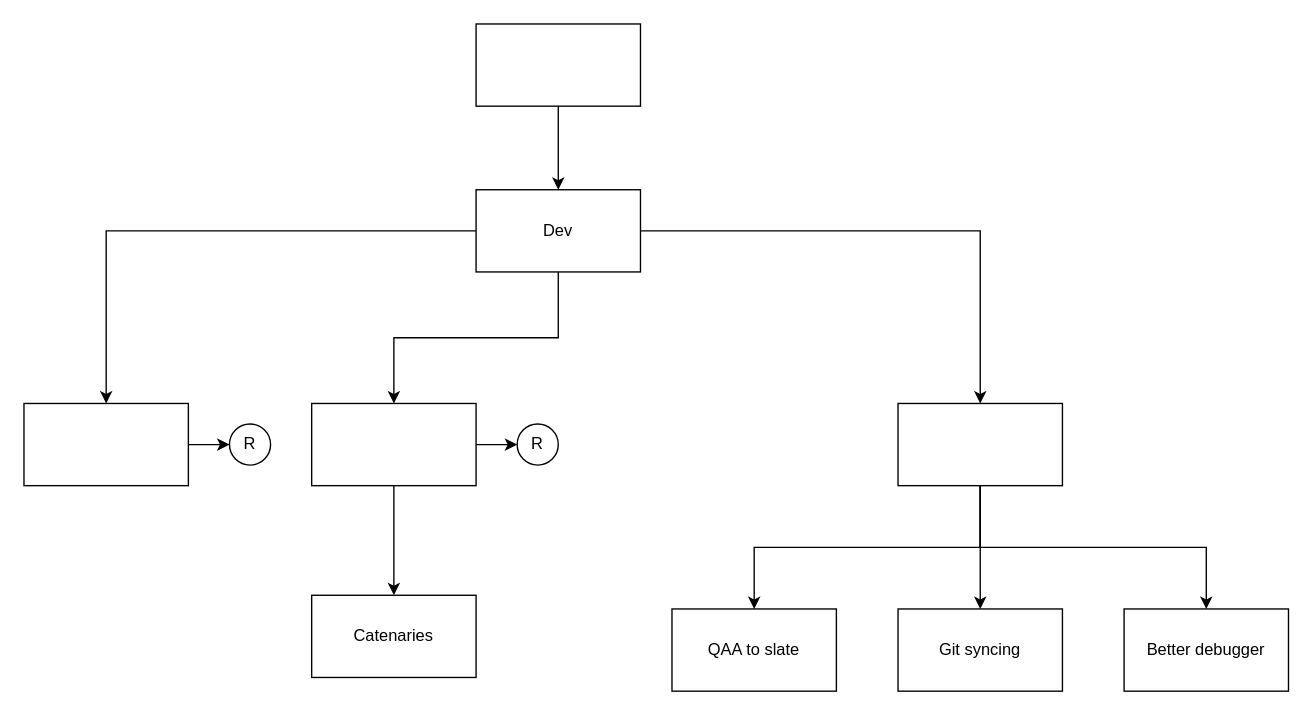
Some shapes in this 1312 by 715 pixel diagram are drawn without their labels. The box of each missing label's shape, as (x1, y1, x2, y2) in pixels:
Editor: (897, 402, 1062, 486)
PCG: (310, 402, 476, 486)
Release: (475, 23, 640, 106)
Shaders: (23, 402, 188, 486)
